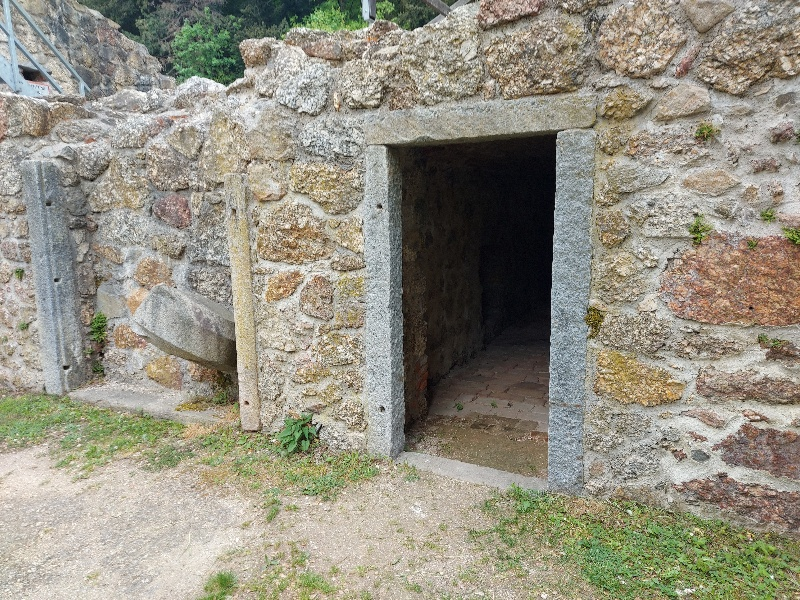door2: (357, 93, 594, 516)
